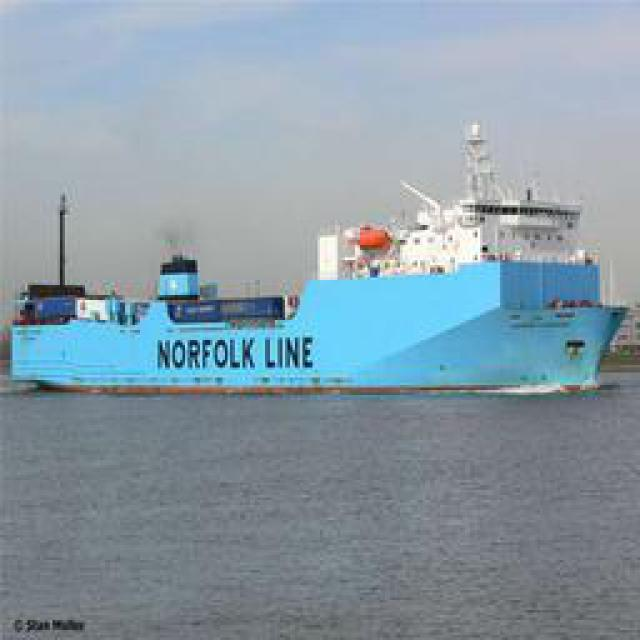Ship: (16, 126, 629, 409)
